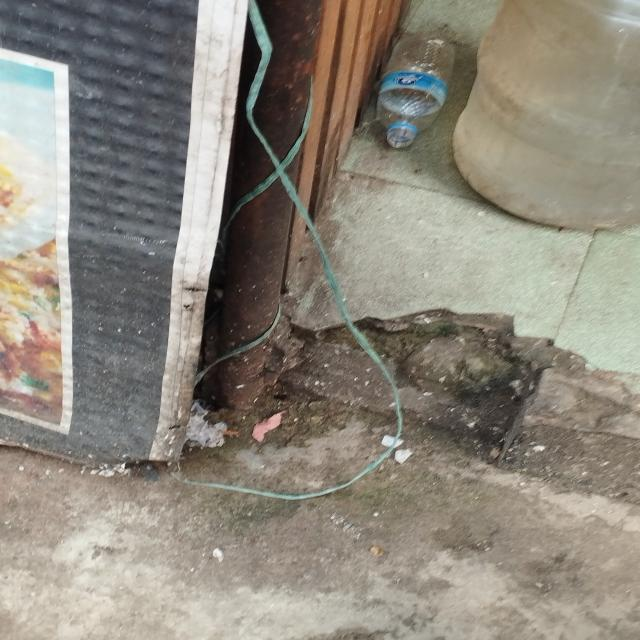plastic: (375, 31, 450, 148)
